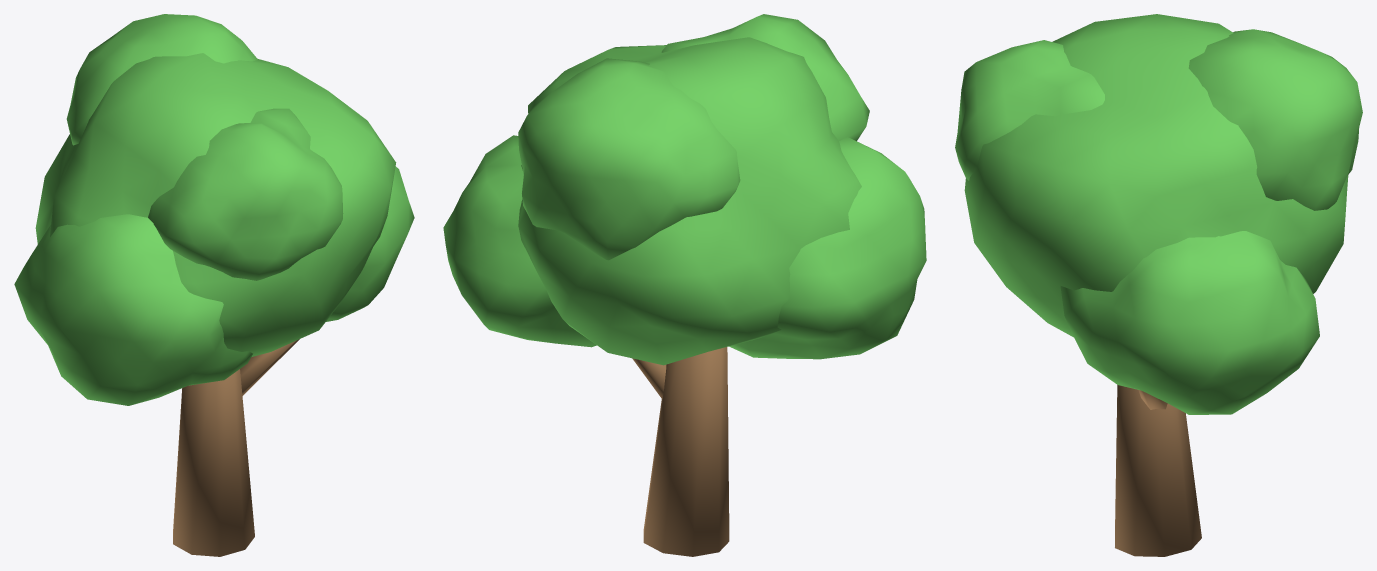
Rendered from tree_round.fbx.
The picture shows the model from 3 angles, left to right: view 1: azimuth 30°, elevation 25°; view 2: azimuth 150°, elevation 25°; view 3: azimuth 270°, elevation 25°; orthographic projection. The views are drawn at different scales.
Parts seen in each view (by area): view 1: Leaf_tree_round, Trunk_tree_round; view 2: Leaf_tree_round, Trunk_tree_round; view 3: Leaf_tree_round, Trunk_tree_round.
Boxes of the visible parts, x1=… form: Leaf_tree_round: x1=14, y1=14, x2=414, y2=405; Trunk_tree_round: x1=173, y1=339, x2=299, y2=556; Leaf_tree_round: x1=443, y1=14, x2=926, y2=365; Trunk_tree_round: x1=632, y1=347, x2=729, y2=556; Leaf_tree_round: x1=955, y1=14, x2=1362, y2=414; Trunk_tree_round: x1=1115, y1=385, x2=1201, y2=556.
Size of the model in its own units: 4.47 by 5.24 by 3.81.
